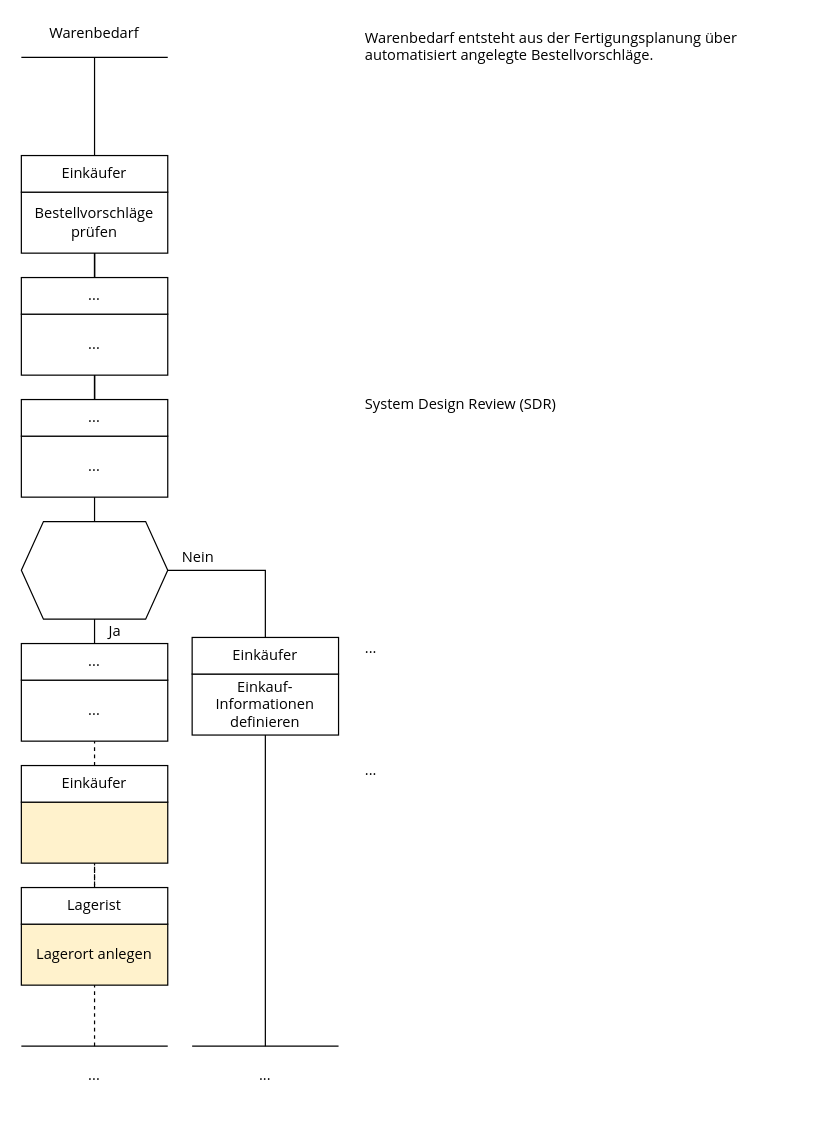
The diagram is 824 pixels wide and 1127 high, and some of its shapes have lost their labels. The box of each missing label's shape, as (x1, y1, x2, y2) in pixels:
Lieferant zugeordnet?: (20, 520, 168, 619)
Meldebestand anlegen: (20, 801, 168, 863)
